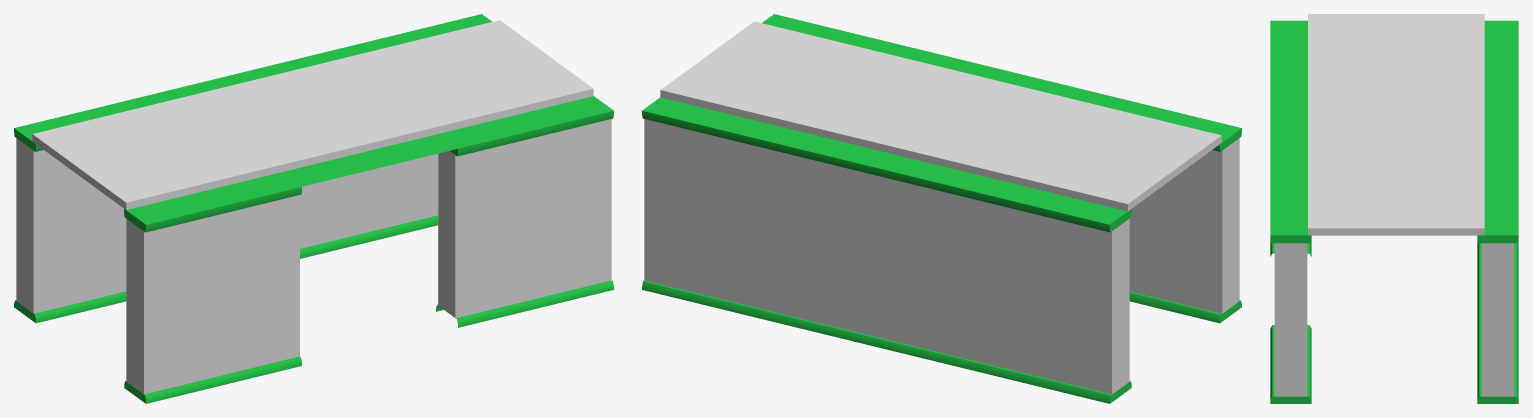
File: Basic Hallway 01B_NF.fbx
3 views of the same model, side by side, from view 1: azimuth 30°, elevation 25°; view 2: azimuth 150°, elevation 25°; view 3: azimuth 270°, elevation 25° (orthographic). The views are drawn at different scales.
Parts seen in each view (by area): view 1: Plane_001; view 2: Plane_001; view 3: Plane_001.
Boxes of the visible parts, box(x1,y1,x2,y2) form: Plane_001: box(14, 14, 613, 403); Plane_001: box(642, 14, 1241, 403); Plane_001: box(1270, 14, 1518, 403).
Bounding box in the file's own units: 1258 × 479 × 615.
